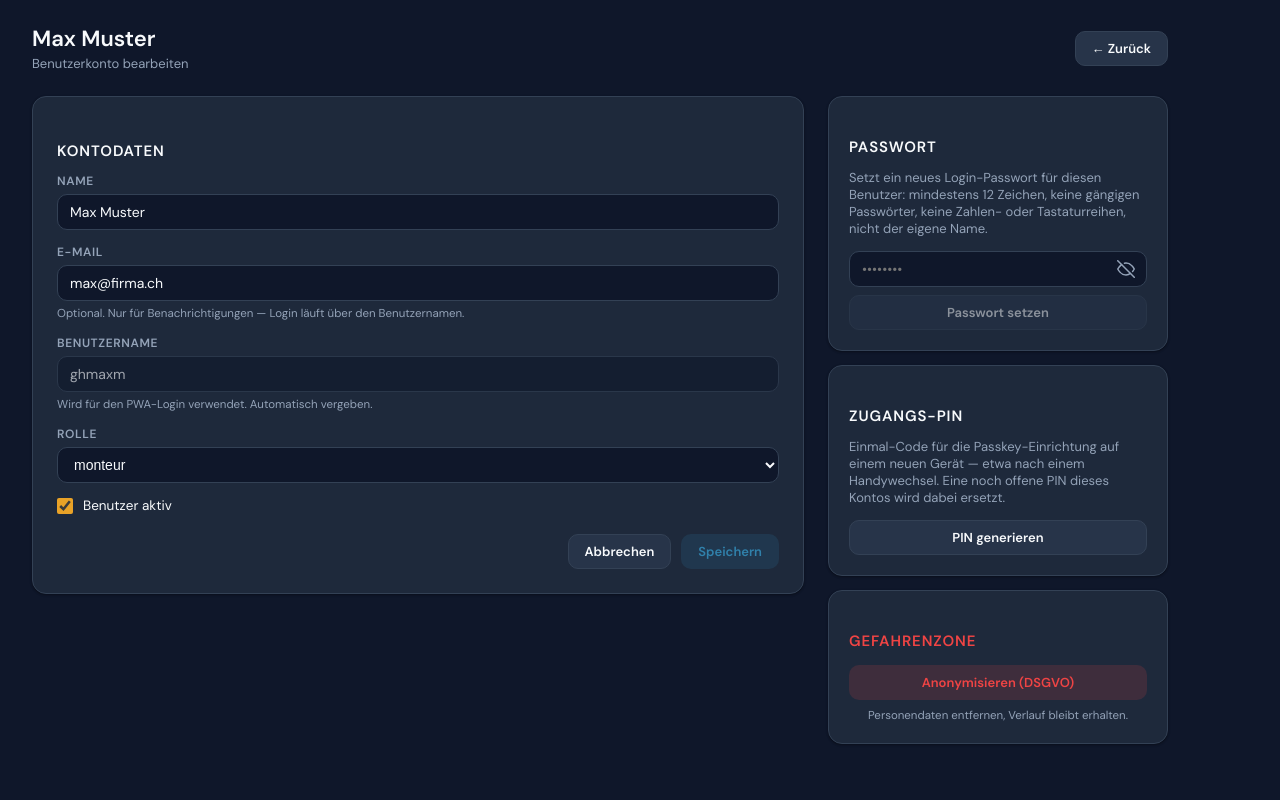
Scenario: UserDetailScreen — Zugangs-PIN › meldet den Backend-Fehler im Klartext, statt still nichts zu tun
Click the button "PIN generieren".
click(998, 538)  # box [849,520,1147,555]
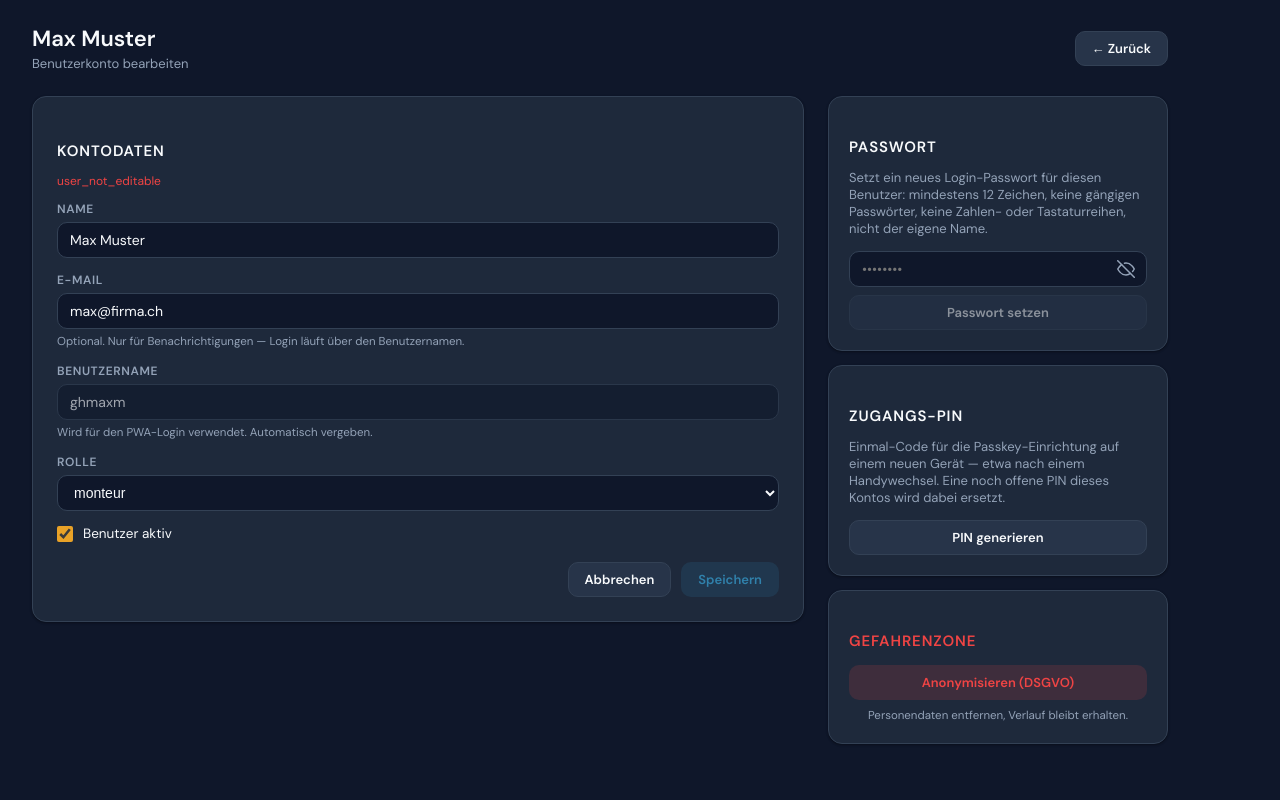
Result: the text "user_not_editable" is shown at [57,173,161,189]
